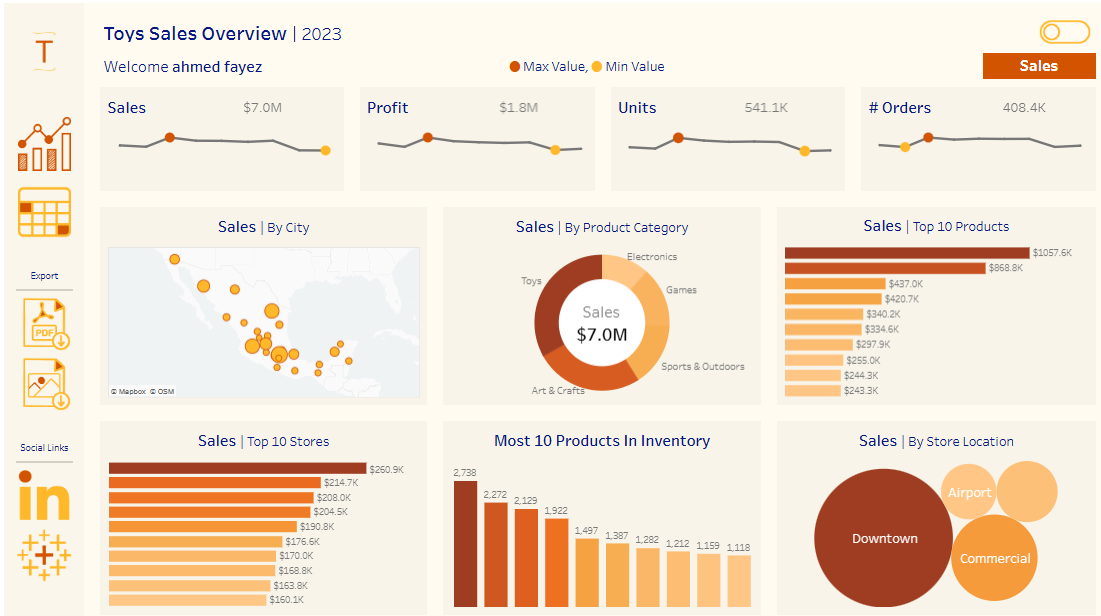

The dashboard page shown, as its layout file describes it:
{"tool":"tableau","page":{"name":"Toys Sales","canvas":[1400,800],"ordinal":1},"visuals":[{"type":"image","param":"Image/logo.png","box":[18,18,80,98]},{"type":"parameter","param":"[Parameters].[Parameter 2]","box":[797,22,217.5,35]},{"type":"parameter","param":"[Parameters].[Parameter 1]","box":[1014.5,22,217.5,35]},{"type":"dashboard-object","box":[1301,22,65,43]},{"type":"text","box":[128,28,1254,32]},{"type":"text","box":[128,70,280,32]},{"type":"blank","box":[408,70,188,32]},{"type":"text","box":[596,70,280,32]},{"type":"blank","box":[876,70,355,32]},{"type":"text","box":[1231,70,141,32]},{"type":"text","box":[133,112,97,50]},{"type":"worksheet","title":"Sales","mark":"Automatic","box":[230,112,202,50]},{"type":"text","box":[457,112,98,50]},{"type":"worksheet","title":"Profit","mark":"Automatic","box":[555,112,191,50]},{"type":"text","box":[771,112,89,50]},{"type":"worksheet","title":"Units","mark":"Automatic","box":[860,112,199,50]},{"type":"text","box":[1084,112,110,50]},{"type":"worksheet","title":"Orders","mark":"Automatic","box":[1194,112,178,50]},{"type":"blank","box":[18,116,80,30]},{"type":"dashboard-object","box":[18,146,80,75]},{"type":"worksheet","title":"Sales By Month","mark":"Automatic","rows":["Calculation_1312236395884642307","Calculation_1312236396366352445"],"cols":["Date"],"box":[133,162,299,81]},{"type":"worksheet","title":"Profit By Month","mark":"Automatic","rows":["CY Sales (copy)_1312236395885850628","Max / Min Sales (copy)_1312236396369547326"],"cols":["Date"],"box":[457,162,289,81]},{"type":"worksheet","title":"Units By Month","mark":"Automatic","rows":["CY Sales (copy)_1312236395890880518","Max / Min Profit (copy)_1312236396370034751"],"cols":["Date"],"box":[771,162,288,81]},{"type":"worksheet","title":"Orders By Month","mark":"Automatic","rows":["CY Profit (copy)_1312236395885940741","Max / Min Profit (copy)_1312236396370567232"],"cols":["Date"],"box":[1084,162,288,81]},{"type":"blank","box":[18,221,80,10]},{"type":"dashboard-object","box":[18,231,80,75]},{"type":"text","box":[133,268,398,34]},{"type":"text","box":[561,268,388,34]},{"type":"text","box":[979,268,388,32]},{"type":"worksheet","title":"Top 10 Products","mark":"Bar","rows":["Product_Name"],"cols":["Calculation_1312236395901321235"],"box":[979,300,388,205]},{"type":"worksheet","title":"Sales By City","mark":"Circle","box":[133,302,398,203]},{"type":"worksheet","title":"Sales By Category","mark":"Pie","cols":["Calculation_1312236395935264798","Calculation_1312236395935264798"],"box":[561,302,388,203]},{"type":"blank","box":[18,306,80,30]},{"type":"text","box":[18,336,80,24]},{"type":"blank","box":[18,360,80,10]},{"type":"dashboard-object","box":[18,370,80,75]},{"type":"dashboard-object","box":[18,445,80,75]},{"type":"blank","box":[18,520,80,30]},{"type":"text","box":[133,535,398,34]},{"type":"text","box":[561,535,388,34]},{"type":"text","box":[979,535,388,34]},{"type":"text","box":[18,550,80,24]},{"type":"worksheet","title":"Top 10 Stores","mark":"Bar","rows":["Store_Name"],"cols":["Calculation_1312236395901321235"],"box":[133,569,398,198]},{"type":"worksheet","title":"Top 10 SKU","mark":"Automatic","rows":["Stock_On_Hand"],"cols":["Product_Name"],"box":[561,569,388,198]},{"type":"worksheet","title":"Sales By Store Location","mark":"Circle","box":[979,569,388,198]},{"type":"blank","box":[18,574,80,10]},{"type":"image","param":"Image/contact-linkedin.png","box":[18,584,80,75]},{"type":"image","param":"Image/contact-public.png","box":[18,659,80,75]},{"type":"blank","box":[18,734,80,48]}]}

Visuals, with their boxes in screenshot pixels (x1, y1, x2, y2), scaled from the page's 1400x800 canvas onto the 1101x616 screenshot:
image: Rect(14, 14, 77, 89)
parameter: Rect(627, 17, 798, 44)
parameter: Rect(798, 17, 969, 44)
dashboard-object: Rect(1023, 17, 1074, 50)
text: Rect(101, 22, 1087, 46)
text: Rect(101, 54, 321, 79)
blank: Rect(321, 54, 469, 79)
text: Rect(469, 54, 689, 79)
blank: Rect(689, 54, 968, 79)
text: Rect(968, 54, 1079, 79)
text: Rect(105, 86, 181, 125)
"Sales" worksheet: Rect(181, 86, 340, 125)
text: Rect(359, 86, 436, 125)
"Profit" worksheet: Rect(436, 86, 587, 125)
text: Rect(606, 86, 676, 125)
"Units" worksheet: Rect(676, 86, 833, 125)
text: Rect(852, 86, 939, 125)
"Orders" worksheet: Rect(939, 86, 1079, 125)
blank: Rect(14, 89, 77, 112)
dashboard-object: Rect(14, 112, 77, 170)
"Sales By Month" worksheet: Rect(105, 125, 340, 187)
"Profit By Month" worksheet: Rect(359, 125, 587, 187)
"Units By Month" worksheet: Rect(606, 125, 833, 187)
"Orders By Month" worksheet: Rect(852, 125, 1079, 187)
blank: Rect(14, 170, 77, 178)
dashboard-object: Rect(14, 178, 77, 236)
text: Rect(105, 206, 418, 233)
text: Rect(441, 206, 746, 233)
text: Rect(770, 206, 1075, 231)
"Top 10 Products" worksheet (Bar marks): Rect(770, 231, 1075, 389)
"Sales By City" worksheet (Circle marks): Rect(105, 233, 418, 389)
"Sales By Category" worksheet (Pie marks): Rect(441, 233, 746, 389)
blank: Rect(14, 236, 77, 259)
text: Rect(14, 259, 77, 277)
blank: Rect(14, 277, 77, 285)
dashboard-object: Rect(14, 285, 77, 343)
dashboard-object: Rect(14, 343, 77, 400)
blank: Rect(14, 400, 77, 424)
text: Rect(105, 412, 418, 438)
text: Rect(441, 412, 746, 438)
text: Rect(770, 412, 1075, 438)
text: Rect(14, 424, 77, 442)
"Top 10 Stores" worksheet (Bar marks): Rect(105, 438, 418, 591)
"Top 10 SKU" worksheet: Rect(441, 438, 746, 591)
"Sales By Store Location" worksheet (Circle marks): Rect(770, 438, 1075, 591)
blank: Rect(14, 442, 77, 450)
image: Rect(14, 450, 77, 507)
image: Rect(14, 507, 77, 565)
blank: Rect(14, 565, 77, 602)
